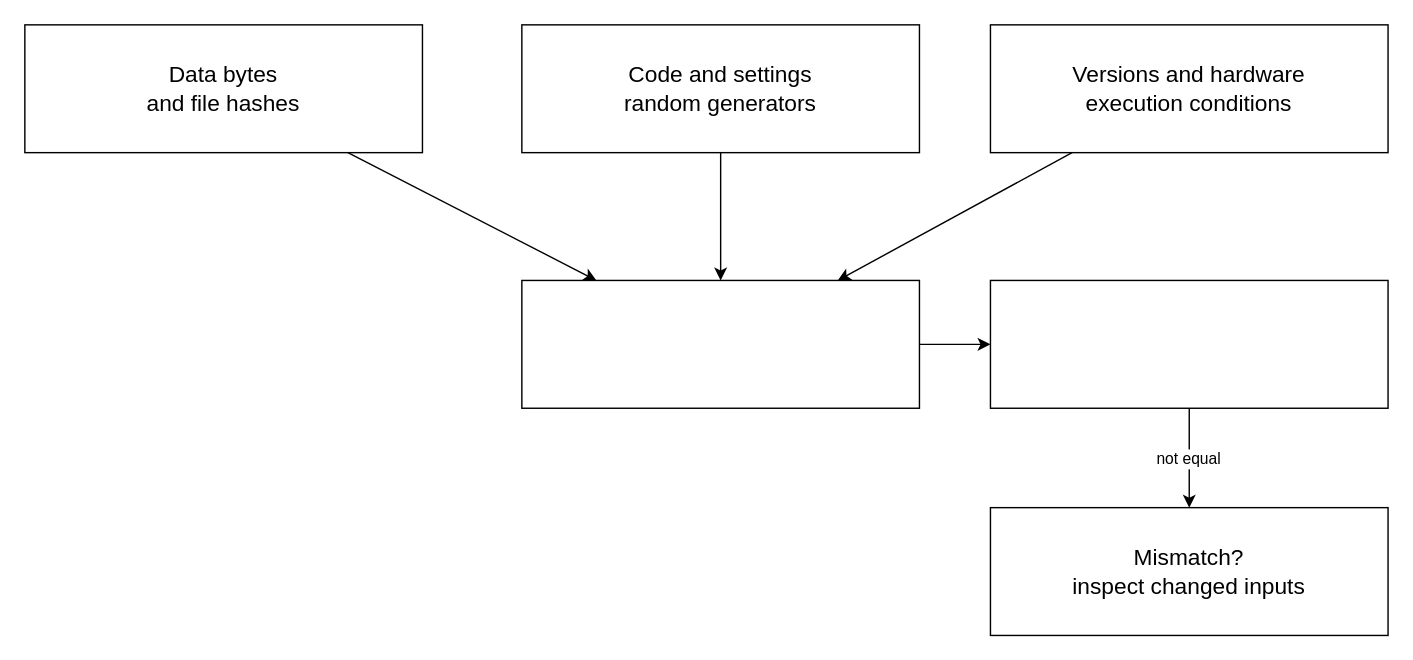
The diagram is 1413 pixels wide and 660 high, and some of its shapes have lost their labels. Each missing label, with the box of its shape:
Compare with baseline exact or tolerance: (989, 279, 1388, 408)
Run and save outputs and logs: (520, 279, 919, 408)
